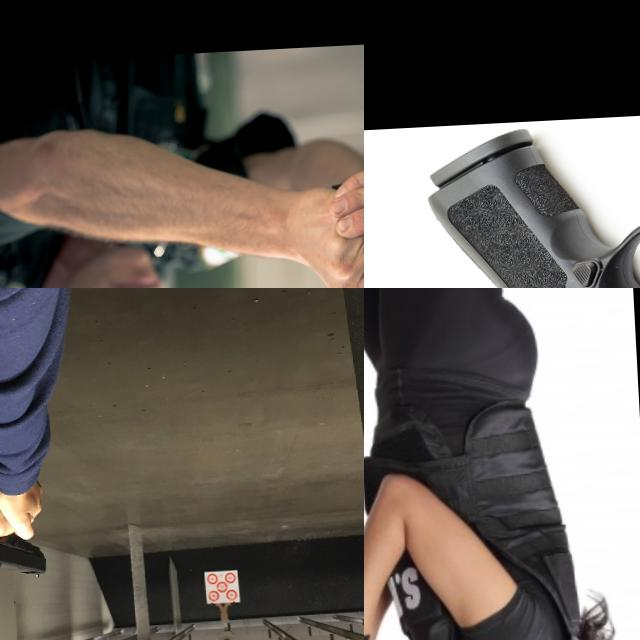handgun: (417, 105, 640, 288), (0, 527, 51, 581)
